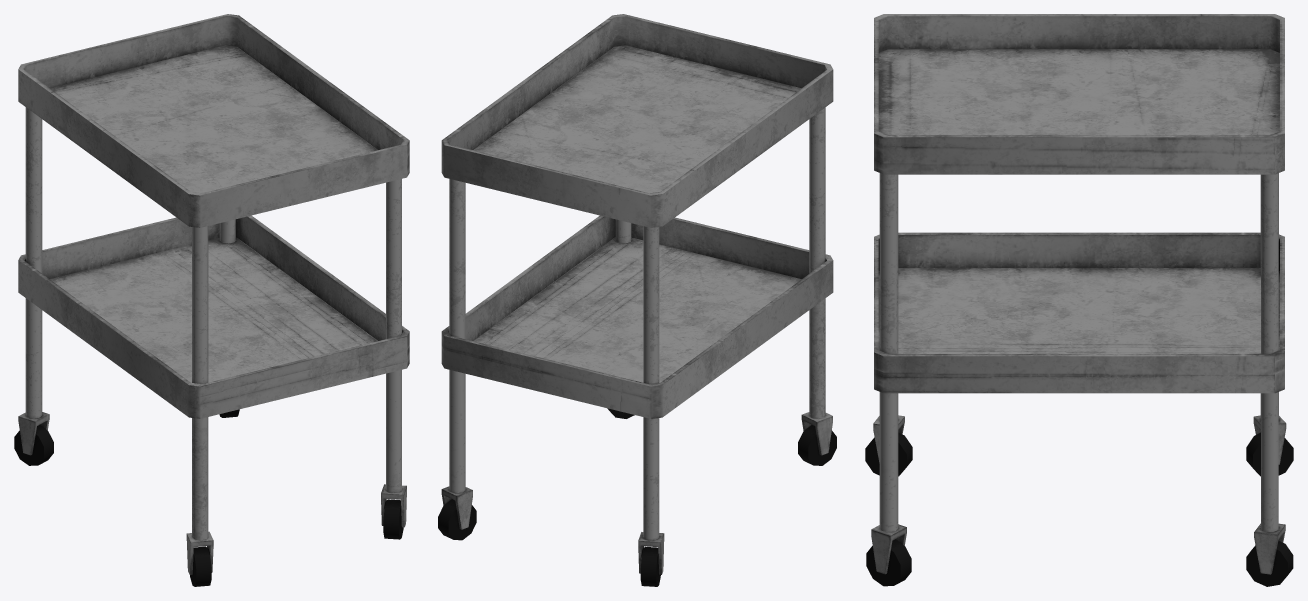
File: Surgerytable_AA.fbx
3 renders of one model, left to right at view 1: azimuth 30°, elevation 25°; view 2: azimuth 150°, elevation 25°; view 3: azimuth 270°, elevation 25°, orthographic. The views are drawn at different scales.
Visible parts, largest first — view 1: Surgerytable_AA; view 2: Surgerytable_AA; view 3: Surgerytable_AA.
Part boxes in pixels (x1=…): Surgerytable_AA: x1=14, y1=14, x2=409, y2=586; Surgerytable_AA: x1=438, y1=14, x2=836, y2=586; Surgerytable_AA: x1=865, y1=14, x2=1293, y2=586.
Size of the model in its own units: 0.4512 by 0.6547 by 0.7653.
1 material, 1 textured.
